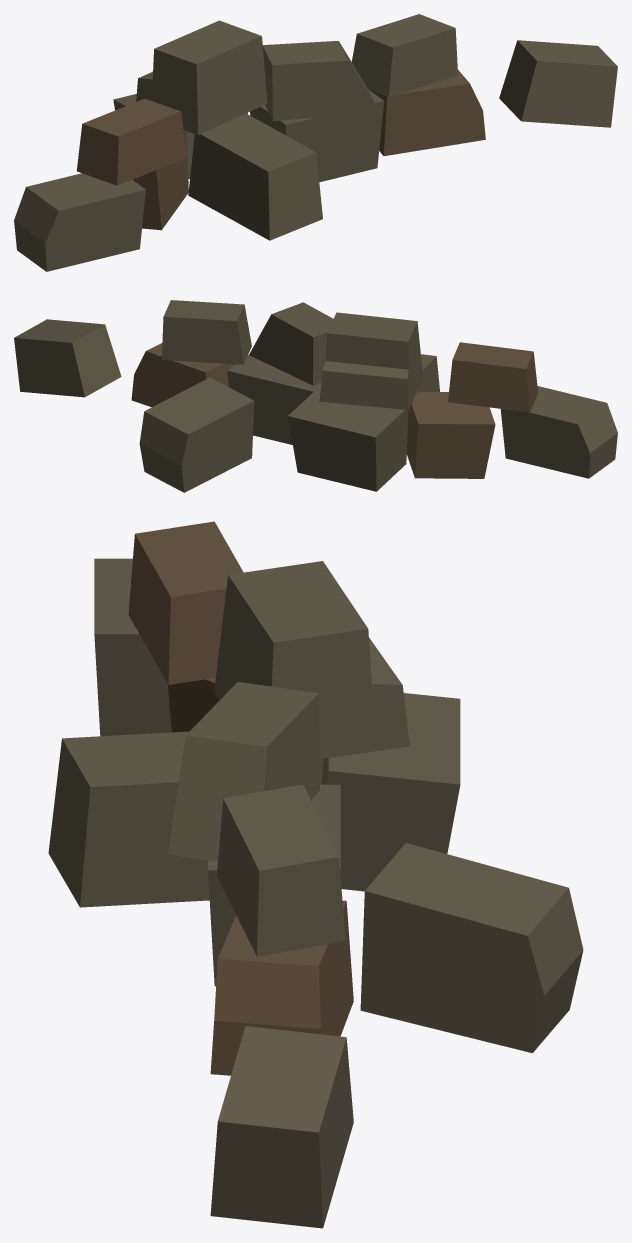
The model's file is RuinRubble-B01.fbx.
The picture shows the model from 3 angles, top to bottom: view 1: azimuth 30°, elevation 25°; view 2: azimuth 150°, elevation 25°; view 3: azimuth 270°, elevation 25°; orthographic projection. The views are drawn at different scales.
Visible parts, largest first — view 1: RuinRubble-B01; view 2: RuinRubble-B01; view 3: RuinRubble-B01.
Boxes of the visible parts, box(x1,y1,x2,y2) form: RuinRubble-B01: box(14, 14, 617, 271); RuinRubble-B01: box(14, 300, 617, 492); RuinRubble-B01: box(48, 521, 583, 1228).
Size of the model in its own units: 281 by 168 by 665.
